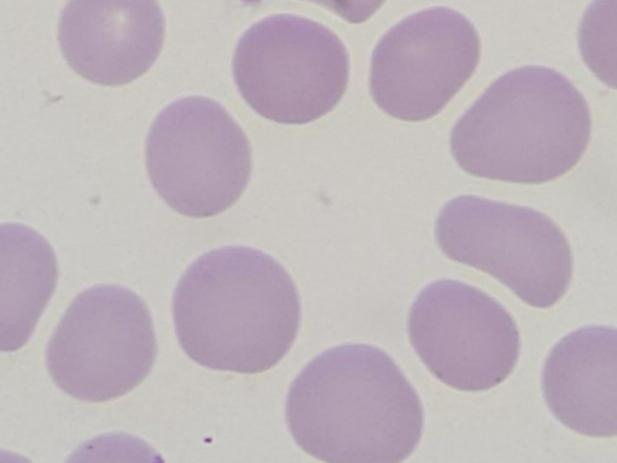Uninfected: (451, 63, 593, 185), (174, 243, 297, 376), (434, 193, 571, 312), (287, 345, 422, 463), (46, 280, 159, 402), (146, 93, 254, 220), (231, 13, 350, 125), (369, 8, 478, 122), (411, 280, 520, 392), (59, 0, 166, 87), (544, 320, 617, 447), (0, 220, 58, 352)
